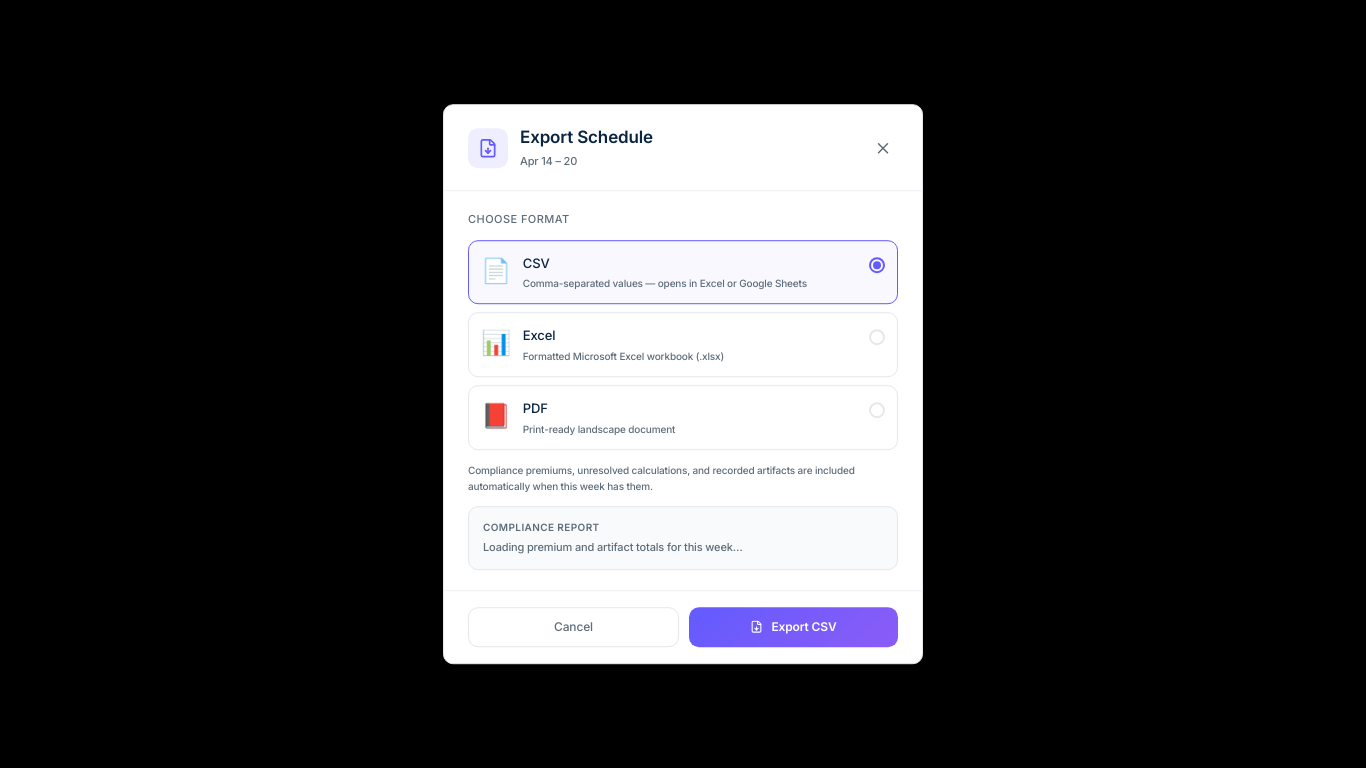
Test: ExportScheduleModal — format selection › clicking Excel changes the export button label to "Export EXCEL"
Click the text "Excel". click: (539, 336)
box: [523,328,555,344]
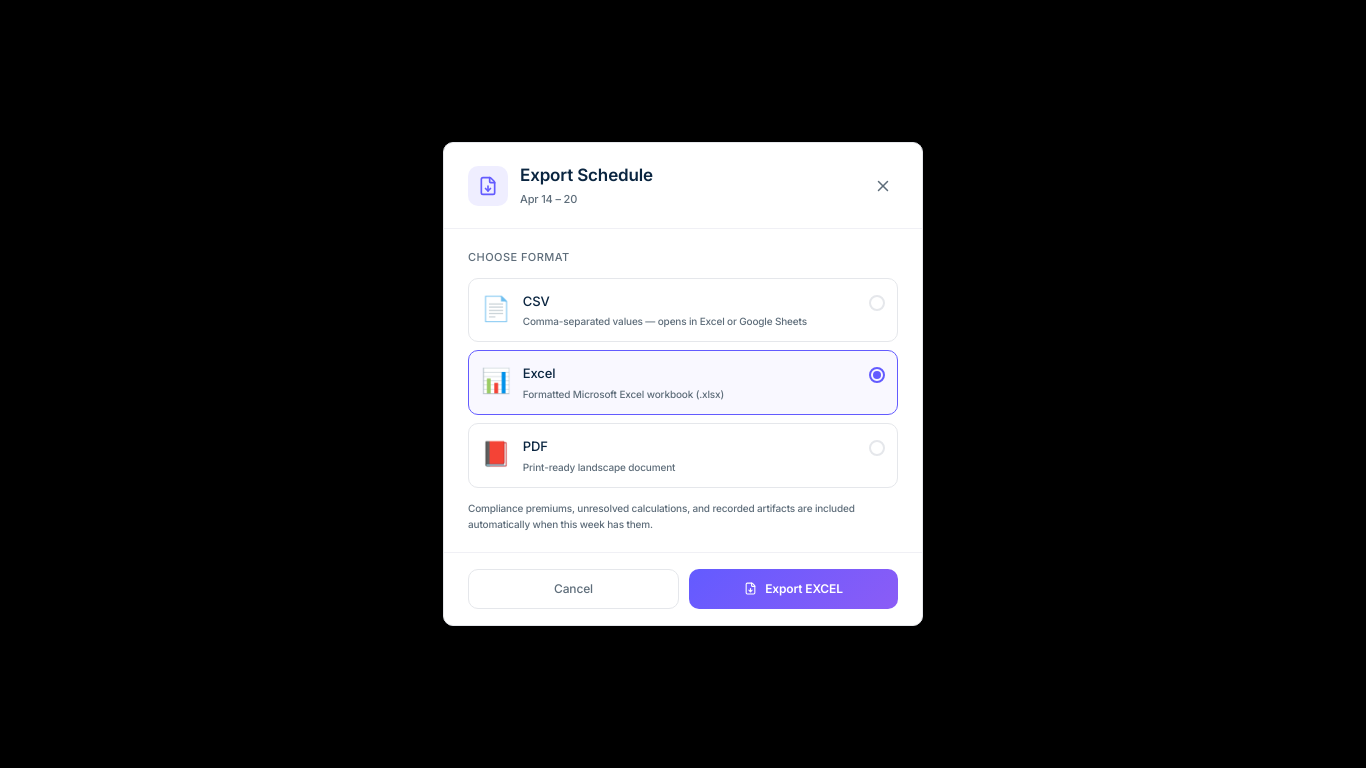
Now the button "Export EXCEL" is shown, box [689,569,898,609]
